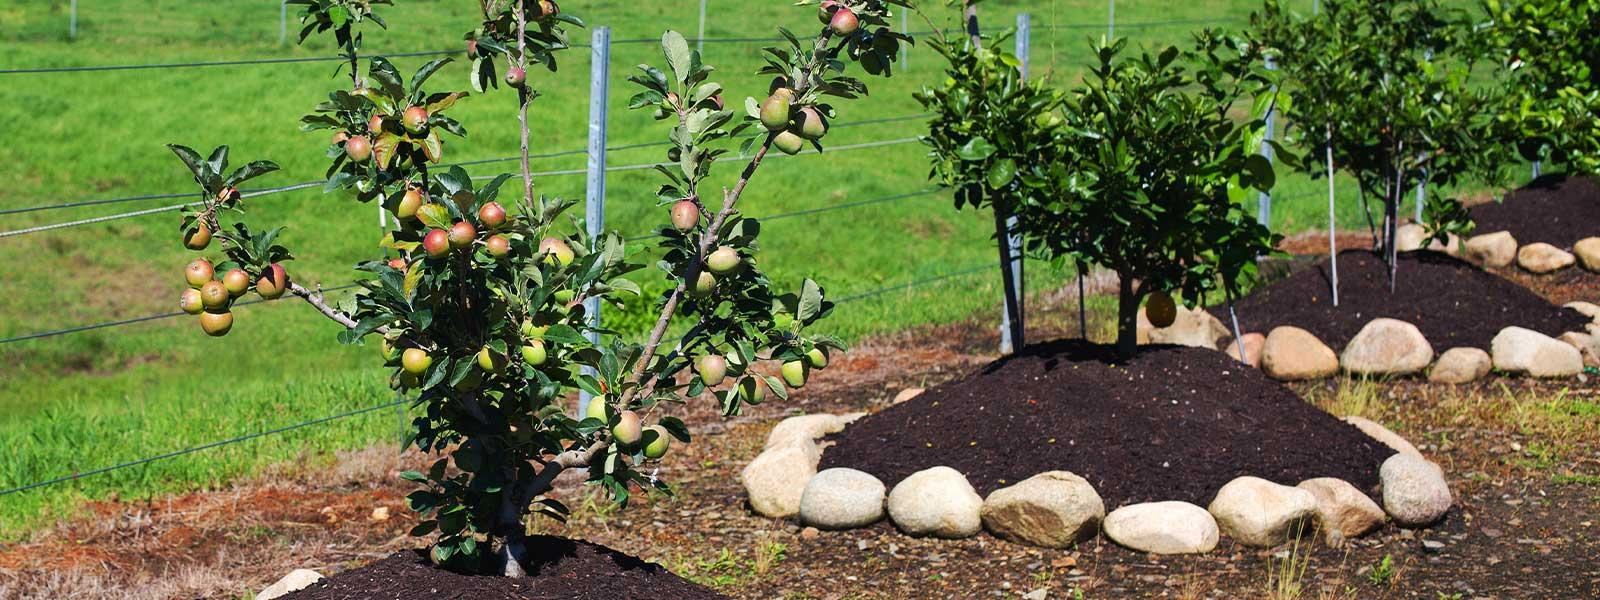apple: (538, 236, 576, 272), (395, 345, 434, 376), (257, 260, 286, 301), (795, 104, 831, 137), (698, 352, 730, 388), (670, 197, 701, 234), (640, 426, 672, 459), (761, 93, 791, 130), (198, 278, 231, 310), (706, 246, 742, 274), (615, 410, 643, 445), (522, 336, 551, 367), (200, 312, 235, 336), (395, 106, 428, 131), (477, 346, 508, 370), (781, 359, 809, 386), (346, 136, 373, 161), (478, 199, 505, 224)
